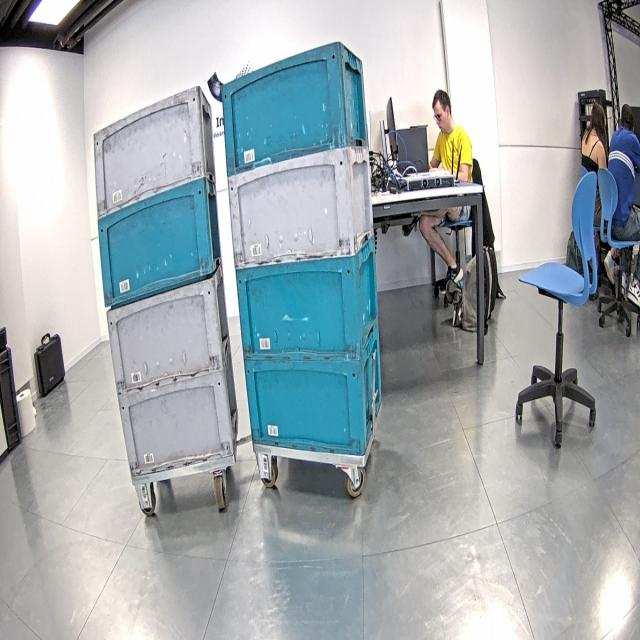Box4G: (223, 144, 374, 276), (102, 265, 227, 397), (92, 82, 216, 215), (116, 364, 242, 477)
BoxB4: (220, 40, 371, 196), (238, 319, 384, 454), (91, 170, 221, 319), (233, 244, 382, 360)
